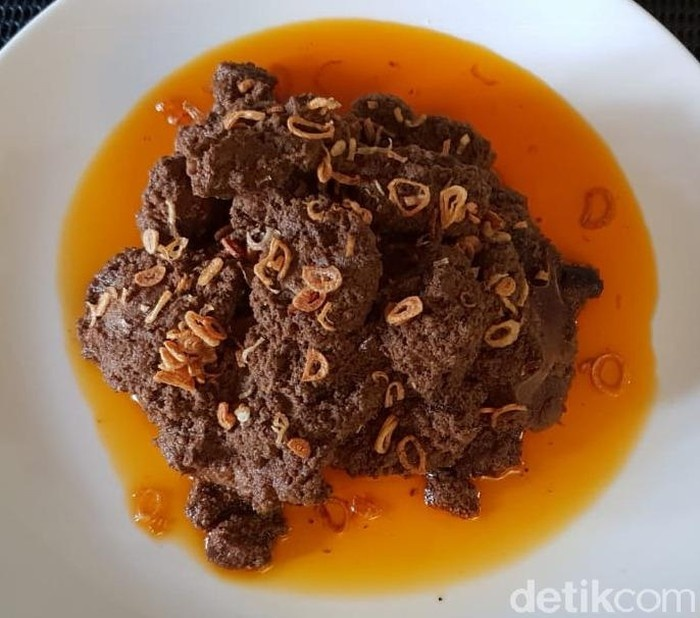rendang: (102, 67, 572, 558)
